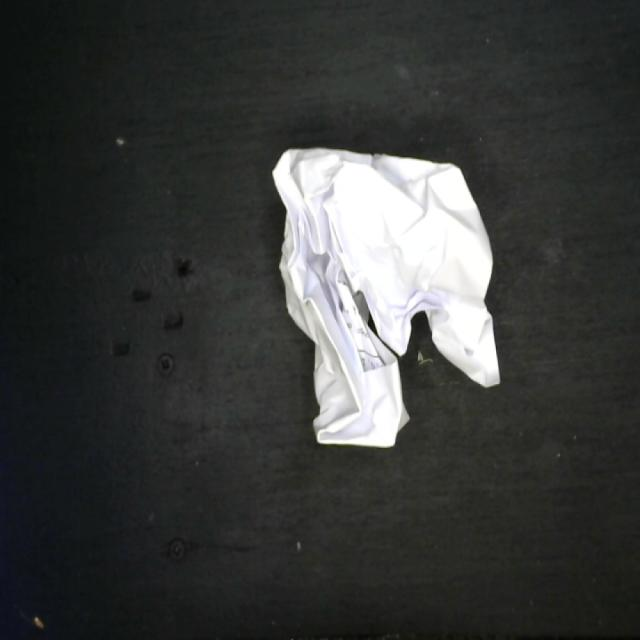biodegradable: (268, 142, 502, 452)
